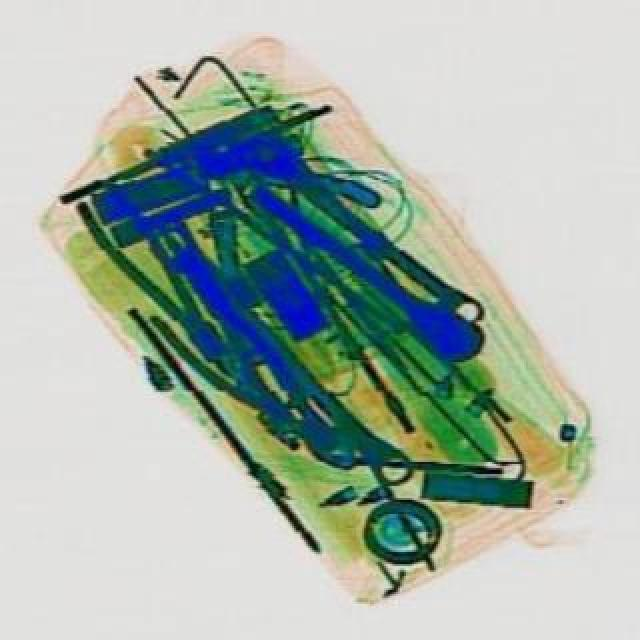scissors: (142, 220, 418, 490), (244, 132, 488, 330)
wrench: (58, 168, 254, 384), (144, 276, 326, 464)
